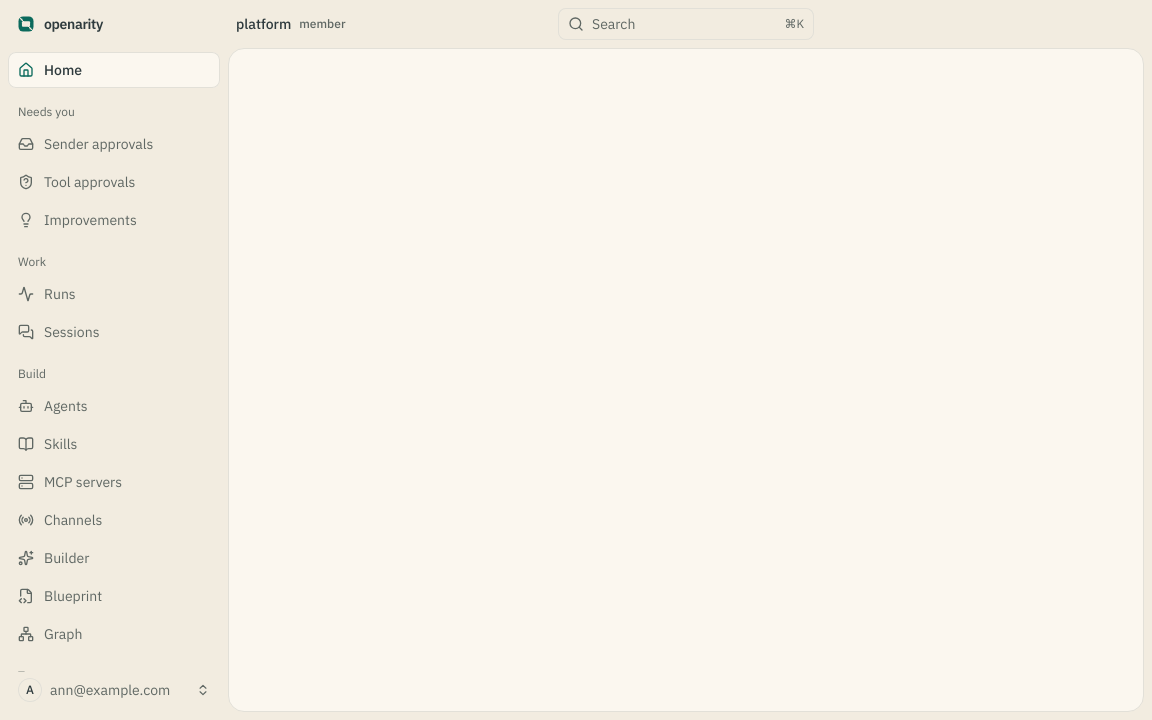
Test: the switch in the account menu › hears another tab turn them off
This screenshot has width=1152, height=720.
Click the button "A ann@example.com".
click(114, 690)  # box 8,672 -> 220,708
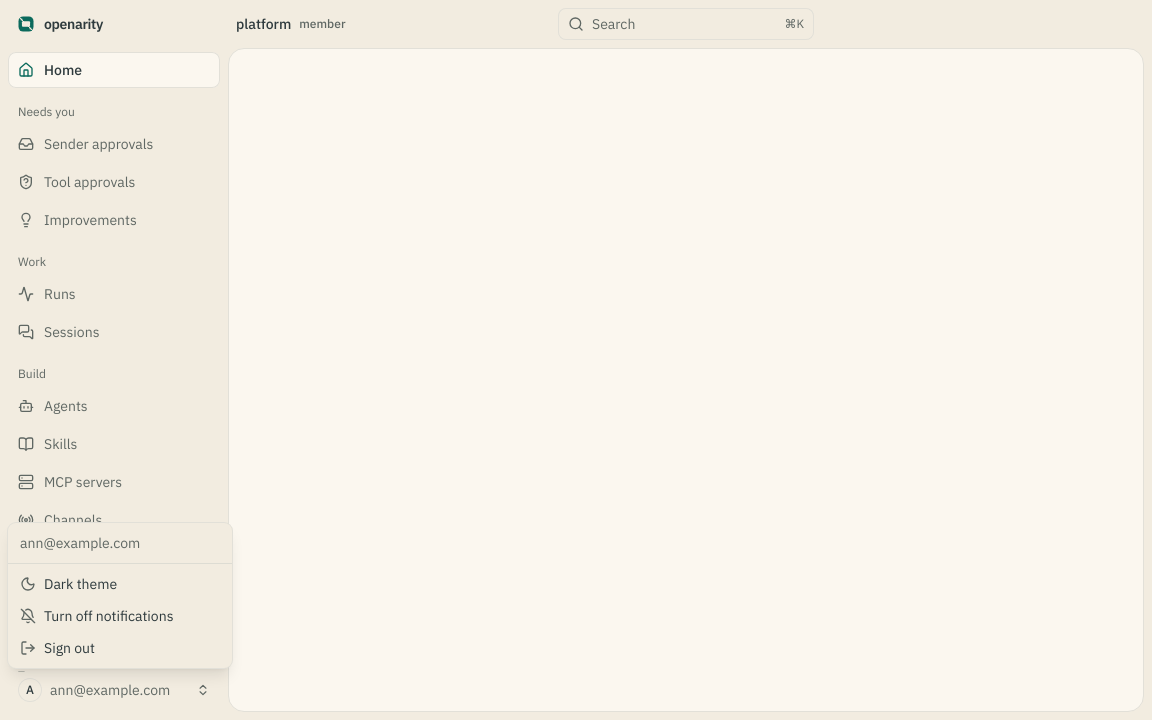
Expected: the menu item "Turn off notifications" is shown, 20,607 -> 174,625
Press Escape
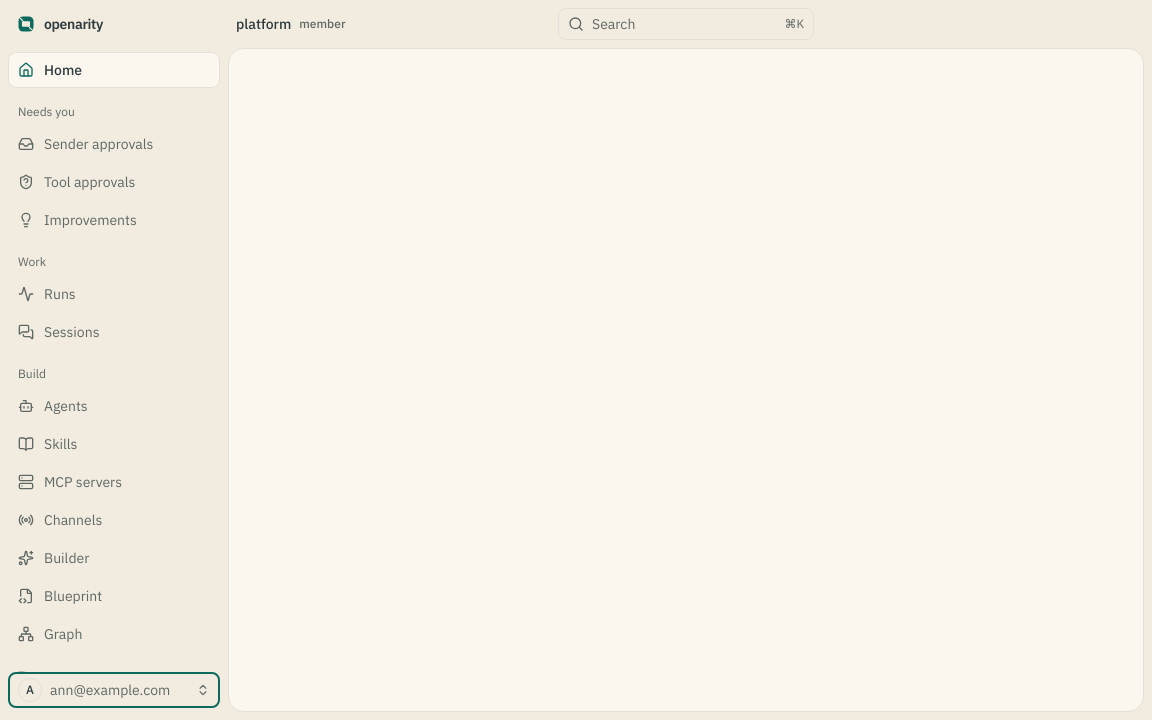
Click the button "A ann@example.com".
click(114, 690)  # box 8,672 -> 220,708
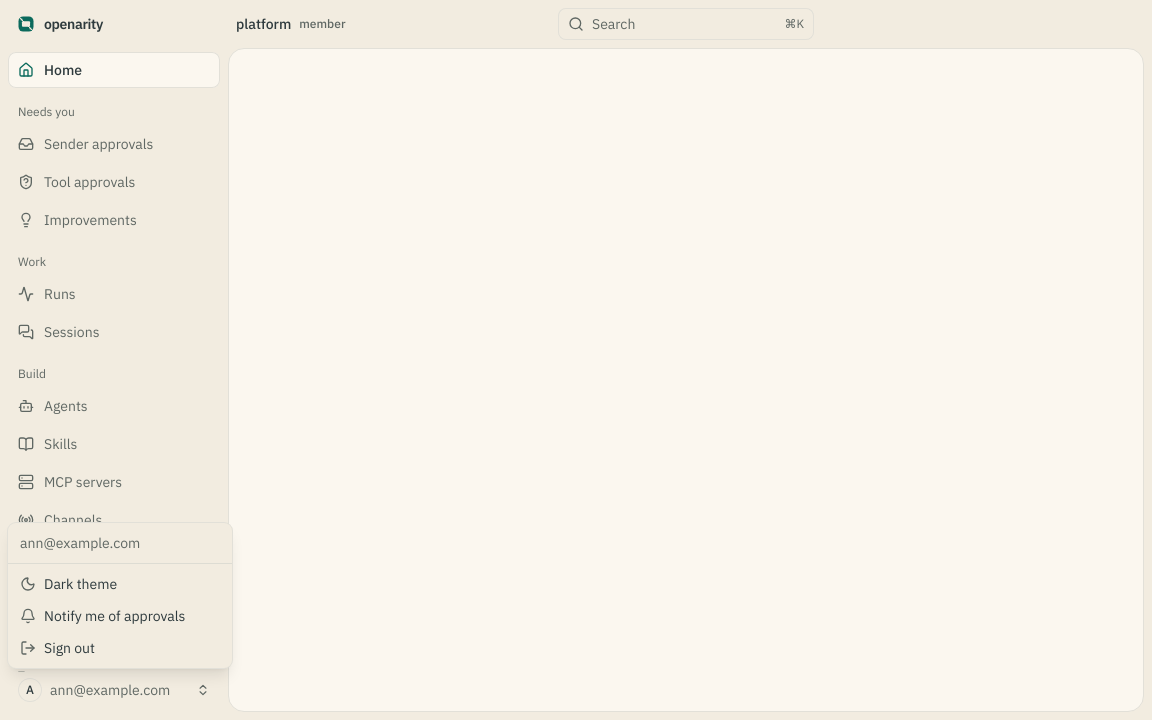
Expected: the menu item "Notify me of approvals" is shown, 20,607 -> 185,625
